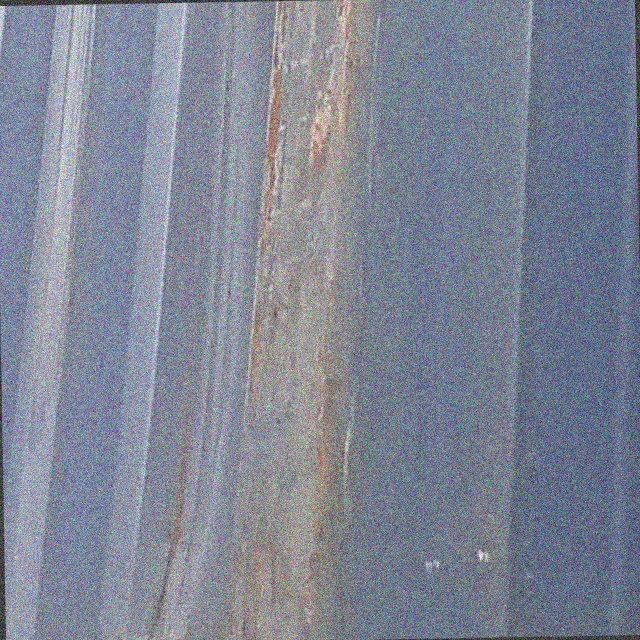Dent: (120, 342, 237, 640)
Rusty: (228, 1, 411, 561)
